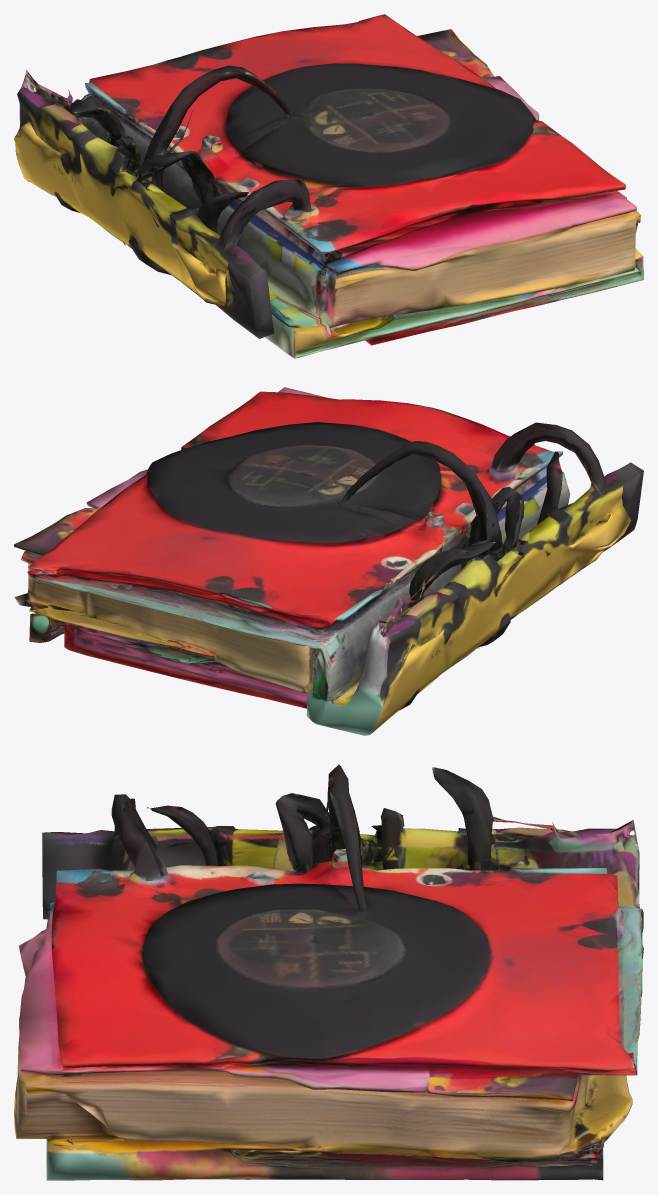
File: Vinyl_Art_Notebook_0522204003_texture.glb
The picture shows the model from 3 angles, top to bottom: view 1: azimuth 30°, elevation 25°; view 2: azimuth 150°, elevation 25°; view 3: azimuth 270°, elevation 25°; orthographic projection. The views are drawn at different scales.
Size of the model in its own units: 1.9 by 0.8107 by 1.99.
1 material, 1 textured.
